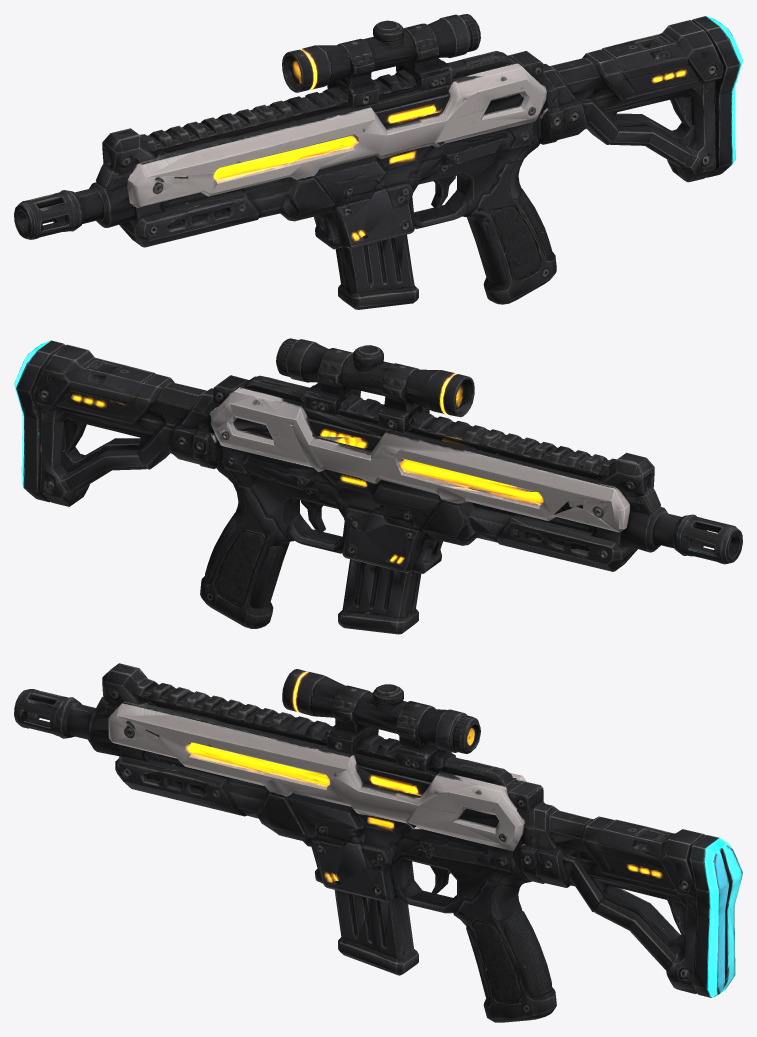
3 renders of one model, top to bottom at view 1: azimuth 30°, elevation 25°; view 2: azimuth 150°, elevation 25°; view 3: azimuth 330°, elevation 25°, orthographic.
Visible parts, largest first — view 1: AR_LOD1; view 2: AR_LOD1; view 3: AR_LOD1.
Boxes of the visible parts, x1,y1,x2,y2 form: AR_LOD1: (14, 14, 742, 309); AR_LOD1: (14, 338, 742, 634); AR_LOD1: (14, 663, 742, 1022).
Bounding box in the file's own units: 95 × 38.96 × 7.31.
